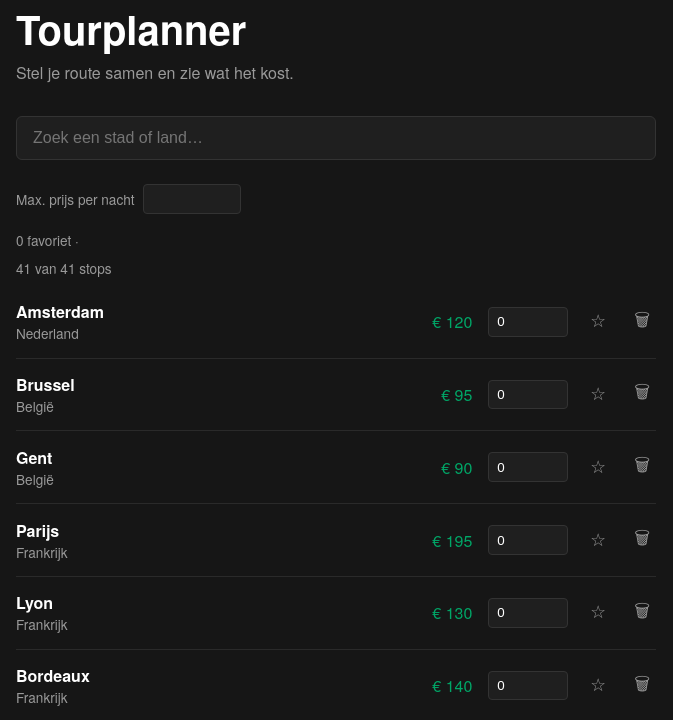
Tourplanner › verwijdert een stop uit de lijst
Click the button named "Verwijder Amsterdam" at coordinates (642, 322), box [628, 306, 656, 338]
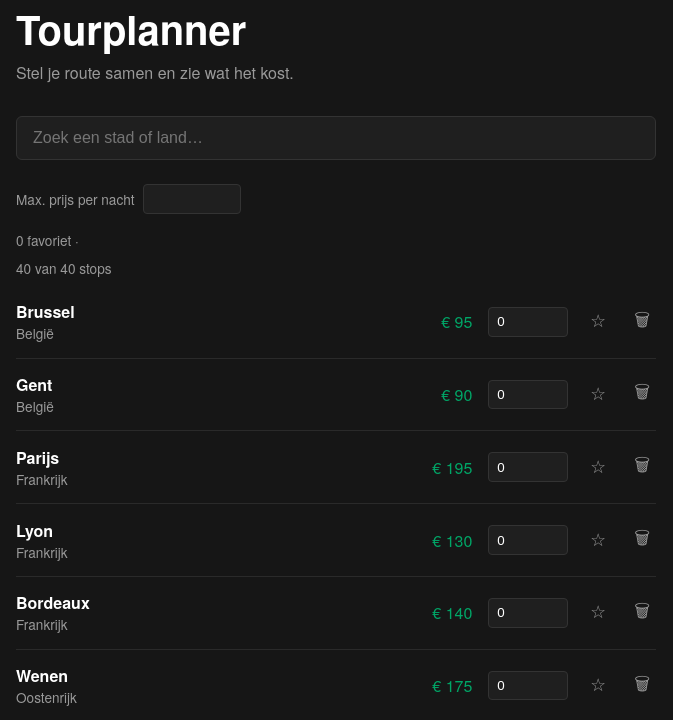
expect the text "Amsterdam" is gone: met
expect the number of list items is 40: met
